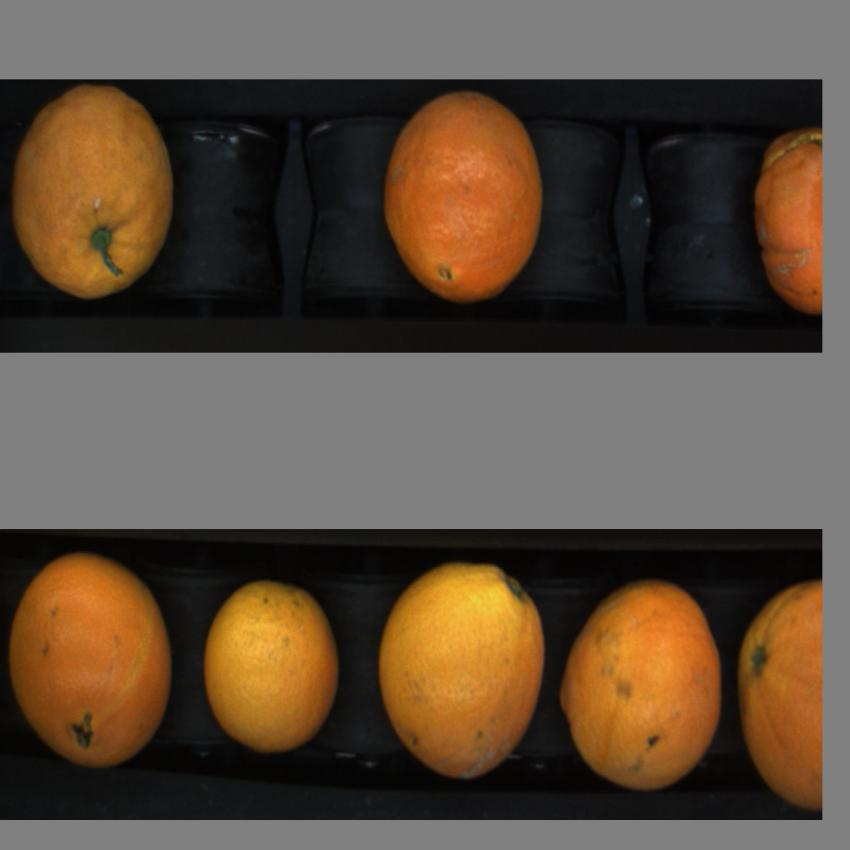Buen estado: (368, 563, 547, 789), (7, 555, 174, 771), (558, 581, 723, 792), (206, 583, 344, 751), (737, 586, 821, 807)
Mal estado: (381, 87, 549, 307), (11, 88, 180, 296), (749, 115, 823, 321)
